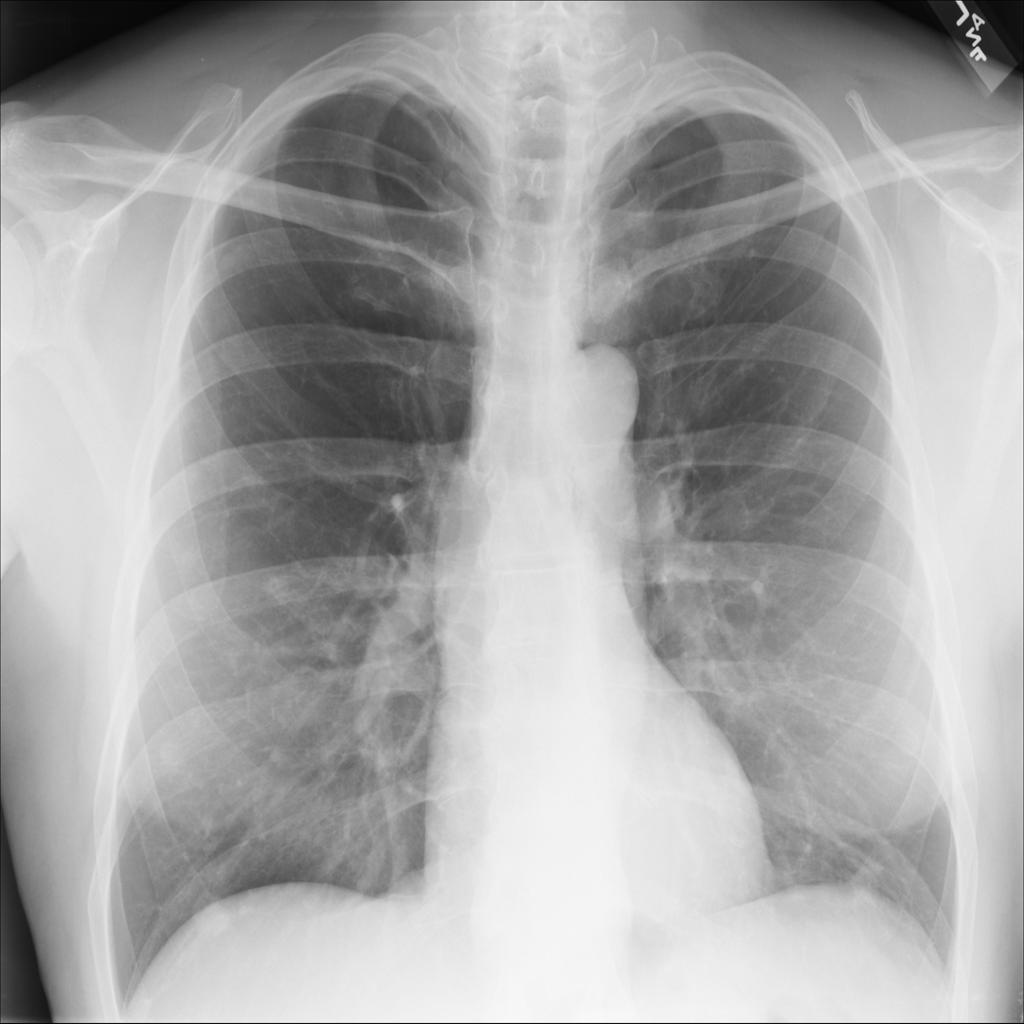nodule: (175, 877, 248, 953)
